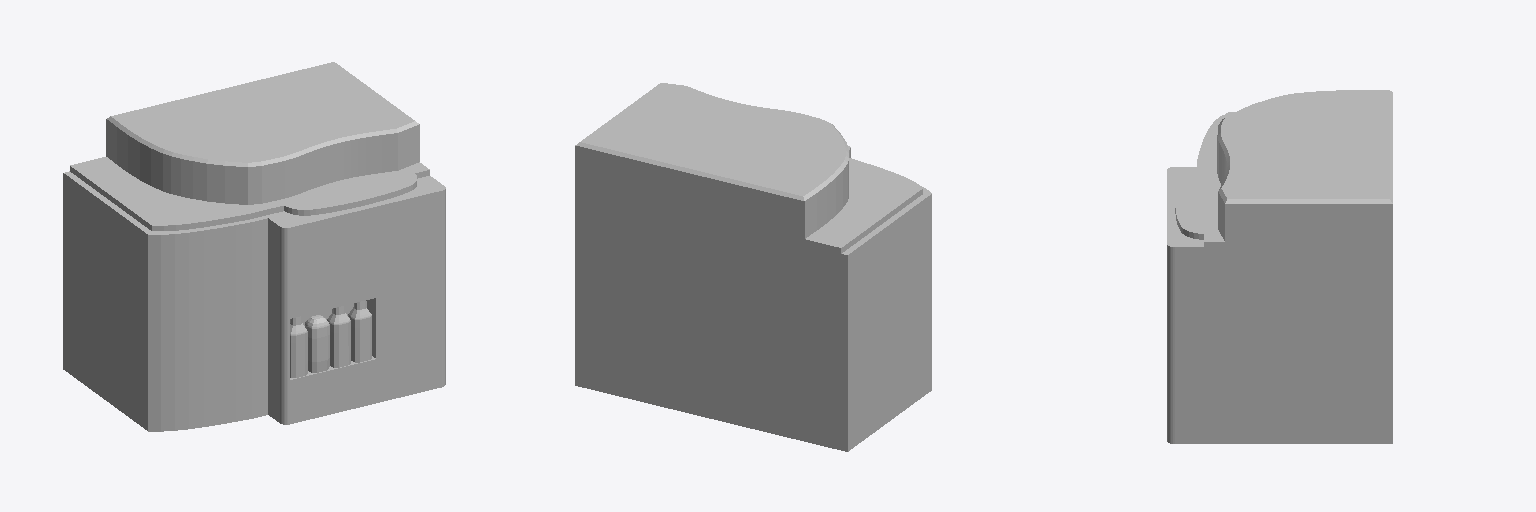
File: ADVIA 1200.obj
The picture shows the model from 3 angles: view 1: azimuth 30°, elevation 25°; view 2: azimuth 150°, elevation 25°; view 3: azimuth 270°, elevation 25°; orthographic projection.
Visible parts, largest first — view 1: object6, object7, object8, object5, object2, object9, object17, object13, object15, object1, object10, object4 (+4 smaller); view 2: object1, object8, object7, object17, object13, object9; view 3: object7, object8, object1, object15, object9, object16, object13.
Part boxes in pixels (left/top/right/bottom): object6: left=148, top=218, right=267, bottom=431; object7: left=63, top=173, right=445, bottom=430; object8: left=106, top=62, right=419, bottom=204; object5: left=290, top=191, right=441, bottom=301; object2: left=376, top=265, right=441, bottom=402; object9: left=263, top=118, right=408, bottom=193; object17: left=70, top=157, right=263, bottom=225; object13: left=115, top=116, right=199, bottom=193; object15: left=278, top=167, right=416, bottom=215; object1: left=64, top=166, right=375, bottom=379; object10: left=290, top=307, right=371, bottom=377; object4: left=290, top=374, right=375, bottom=423; object1: left=575, top=183, right=931, bottom=451; object8: left=575, top=83, right=848, bottom=238; object7: left=848, top=148, right=931, bottom=451; object17: left=806, top=158, right=922, bottom=247; object13: left=788, top=144, right=848, bottom=225; object9: left=663, top=84, right=808, bottom=123; object7: left=1167, top=245, right=1392, bottom=443; object8: left=1217, top=90, right=1392, bottom=241; object1: left=1197, top=115, right=1392, bottom=246; object15: left=1175, top=170, right=1220, bottom=239; object9: left=1217, top=128, right=1242, bottom=226; object16: left=1167, top=161, right=1224, bottom=246; object13: left=1265, top=90, right=1374, bottom=100.
Size of the model in its own units: 47.41 by 40.5 by 34.09.